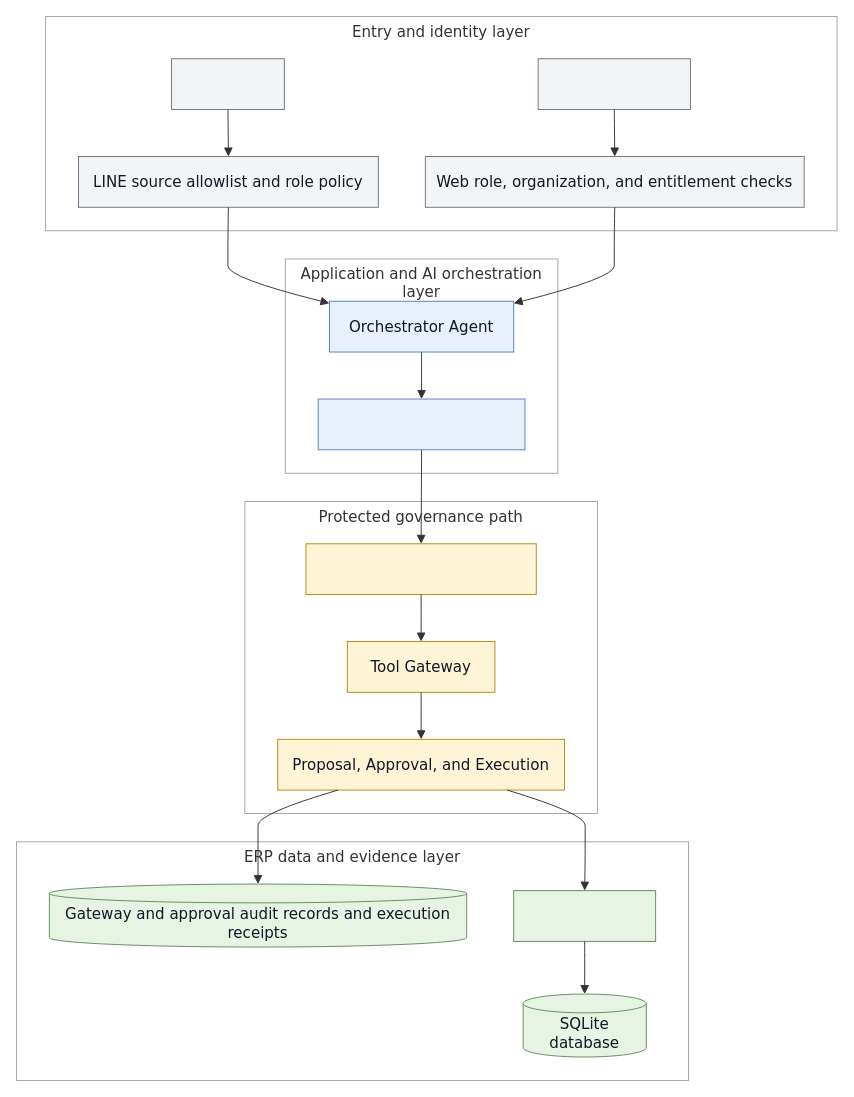
Some shapes in this 854 by 1097 pixel diagram are drawn without their labels. Here are the shapes that lost their labels. From the top down, the centre of each, then its label:
point 227,84: LINE Bot
point 613,84: Streamlit Web
point 421,424: Eight specialist Agents
point 420,569: Tool registry and allowlist
point 584,915: ERP modules
